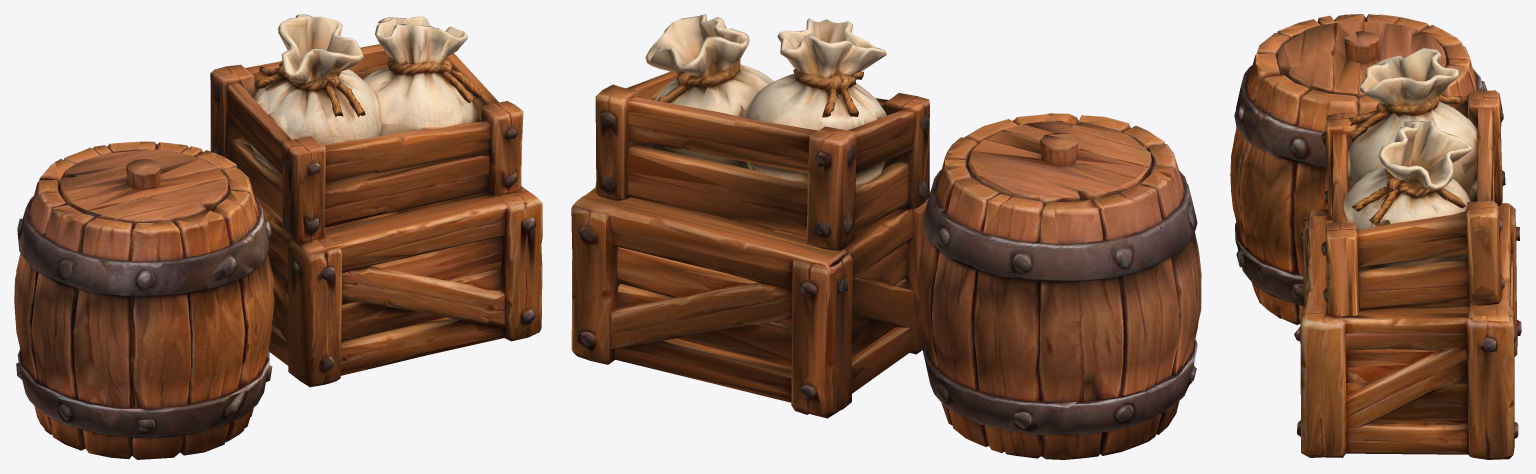
The model's file is barrel.glb.
3 views of the same model, side by side, from view 1: azimuth 30°, elevation 25°; view 2: azimuth 150°, elevation 25°; view 3: azimuth 270°, elevation 25° (orthographic). The views are drawn at different scales.
Visible parts, largest first — view 1: tripo_node_c7fb13be-81a3-4038-a34b-c8ce08aaa75b; view 2: tripo_node_c7fb13be-81a3-4038-a34b-c8ce08aaa75b; view 3: tripo_node_c7fb13be-81a3-4038-a34b-c8ce08aaa75b.
Boxes of the visible parts, <box> form: tripo_node_c7fb13be-81a3-4038-a34b-c8ce08aaa75b: <box>14,14,542,459</box>; tripo_node_c7fb13be-81a3-4038-a34b-c8ce08aaa75b: <box>571,14,1201,459</box>; tripo_node_c7fb13be-81a3-4038-a34b-c8ce08aaa75b: <box>1230,14,1521,459</box>.
Bounding box in the file's own units: 1.35 × 0.85 × 0.6834.
1 material, 1 textured.
